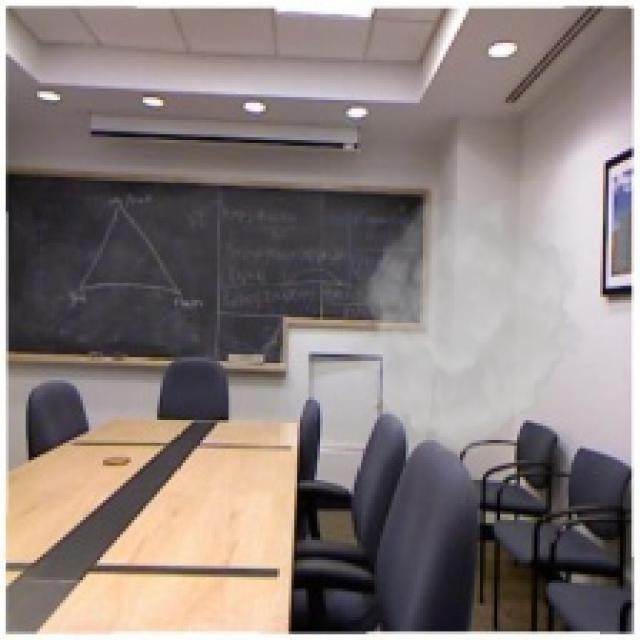Smoke: (348, 199, 586, 452)
